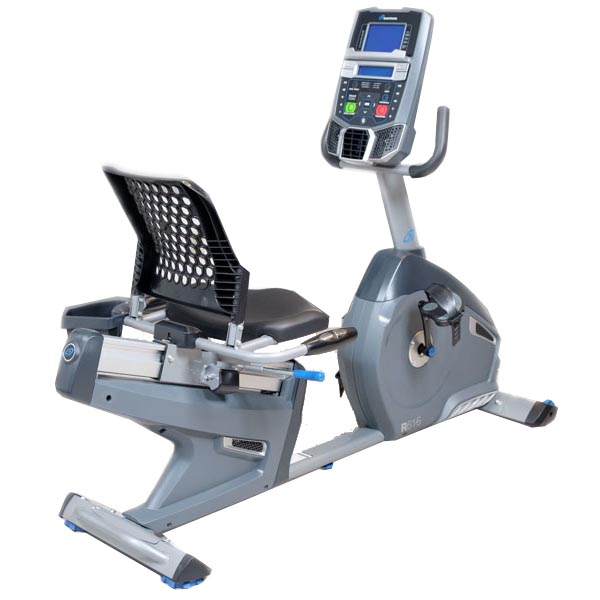gym_bike: (42, 1, 579, 590)
